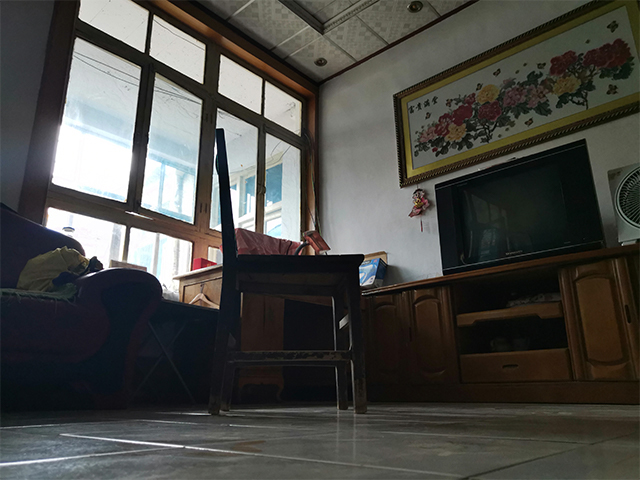cabinet: (355, 237, 640, 407)
sofa: (1, 206, 166, 414)
stool: (204, 126, 371, 416)
